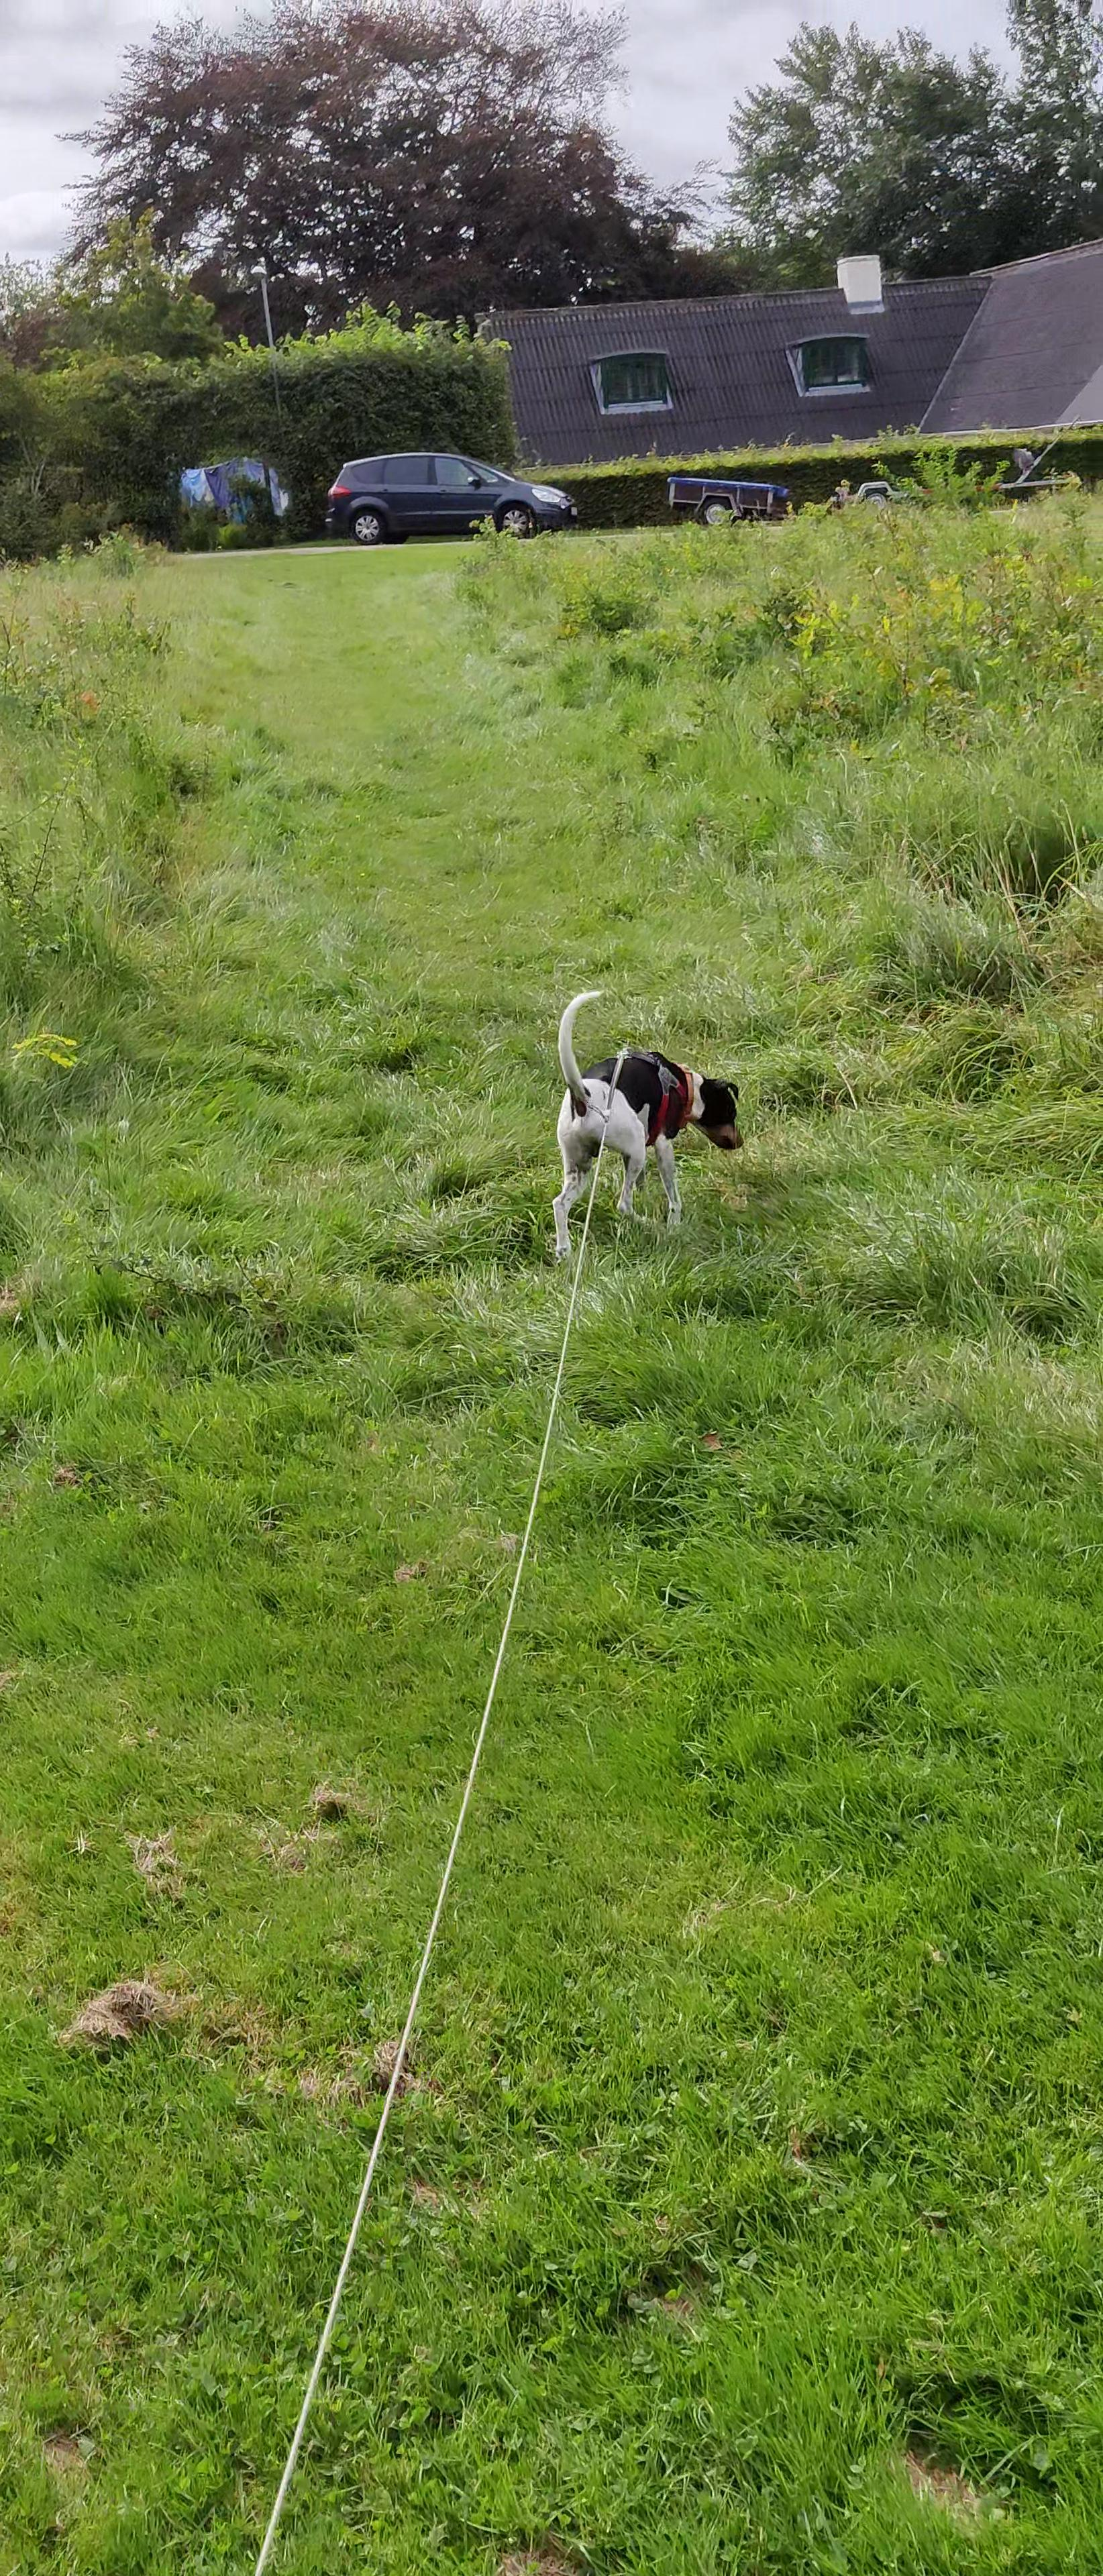Dog: (547, 987, 746, 1265)
